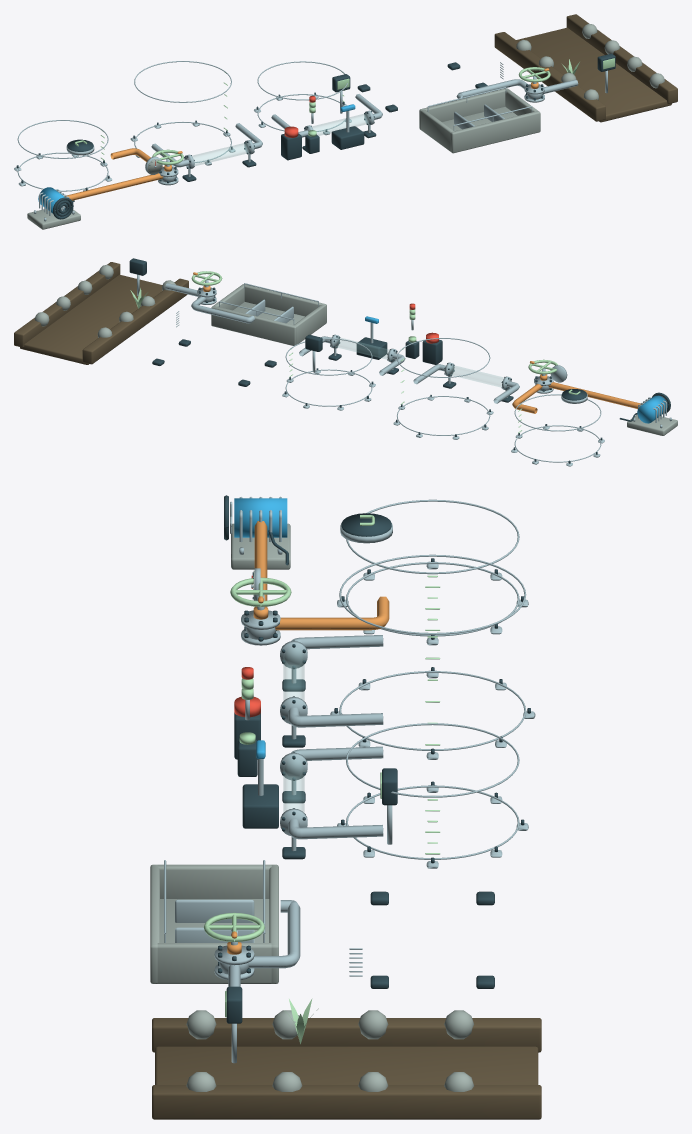
File: interactive-equipment.5a381edf6724.glb
3 views of the same model, one above another, from view 1: azimuth 30°, elevation 25°; view 2: azimuth 150°, elevation 25°; view 3: azimuth 270°, elevation 25° (orthographic). The views are drawn at different scales.
Visible parts, largest first — view 1: River_Receiving_Earth, Pond_Polishing_Concrete, Pipe_Inspection_Network_Steel, _Concrete, Pipe_Inspection_Network_Glass, Pipe_Inspection_Network_Copper, Vessel_Detail_-2_Steel, Vessel_Detail_-6_Steel, Pond_Polishing_Steel, Vessel_Detail_2_Steel, Pump_Interactive_Concrete, Lever_Aeration_Graphite (+4 smaller); view 2: River_Receiving_Earth, Pond_Polishing_Concrete, Pipe_Inspection_Network_Steel, _Concrete, Pipe_Inspection_Network_Glass, Pipe_Inspection_Network_Copper, Vessel_Detail_-2_Steel, Vessel_Detail_2_Steel, Vessel_Detail_-6_Steel, Pond_Polishing_Steel, Pump_Interactive_Concrete, Lever_Aeration_Graphite (+3 smaller); view 3: River_Receiving_Earth, Pond_Polishing_Concrete, Pipe_Inspection_Network_Steel, _Concrete, Pond_Polishing_Steel, Vessel_Detail_-2_Steel, Pipe_Inspection_Network_Copper, Vessel_Detail_2_Steel, Vessel_Detail_-6_Steel, Pipe_Inspection_Network_Glass, Pump_Interactive_Blue, Lever_Aeration_Graphite (+6 smaller).
Boxes of the visible parts, x1,y1,x2,y2 form: River_Receiving_Earth: (494,14,677,122); Pond_Polishing_Concrete: (419,88,540,153); Pipe_Inspection_Network_Steel: (151,79,578,176); _Concrete: (516,23,664,100); Pipe_Inspection_Network_Glass: (192,113,369,165); Pipe_Inspection_Network_Copper: (64,148,163,200); Vessel_Detail_-2_Steel: (130,61,235,166); Vessel_Detail_-6_Steel: (14,120,112,191); Pond_Polishing_Steel: (427,87,532,130); Vessel_Detail_2_Steel: (254,61,351,135); Pump_Interactive_Concrete: (27,209,80,229); Lever_Aeration_Graphite: (331,126,364,149); River_Receiving_Earth: (14,262,188,364); Pond_Polishing_Concrete: (211,284,326,345); Pipe_Inspection_Network_Steel: (165,283,519,403); _Concrete: (34,265,176,337); Pipe_Inspection_Network_Glass: (334,337,503,387); Pipe_Inspection_Network_Copper: (512,382,642,413); Vessel_Detail_-2_Steel: (393,338,493,439); Vessel_Detail_2_Steel: (282,338,375,410); Vessel_Detail_-6_Steel: (511,394,604,466); Pond_Polishing_Steel: (219,283,318,324); Pump_Interactive_Concrete: (627,414,677,435); Lever_Aeration_Graphite: (356,337,387,359); River_Receiving_Earth: (152,1018,541,1119); Pond_Polishing_Concrete: (150,864,278,983); Pipe_Inspection_Network_Steel: (228,635,383,986); _Concrete: (186,1010,473,1091); Pond_Polishing_Steel: (164,860,265,942); Vessel_Detail_-2_Steel: (330,554,535,759); Pipe_Inspection_Network_Copper: (254,521,389,630); Vessel_Detail_2_Steel: (337,723,528,868); Vessel_Detail_-6_Steel: (337,499,528,645); Pipe_Inspection_Network_Glass: (283,648,304,812); Pump_Interactive_Blue: (234,498,287,537); Lever_Aeration_Graphite: (242,784,278,828).
Size of the model in its own units: 20.52 by 2.31 by 5.92.
